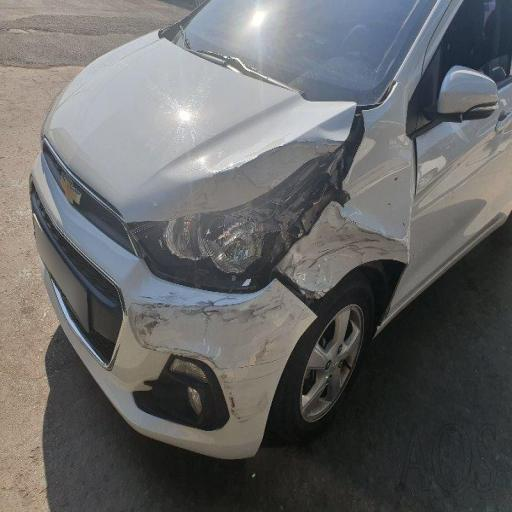broken: (233, 142, 409, 336)
scratch: (115, 238, 294, 391)
